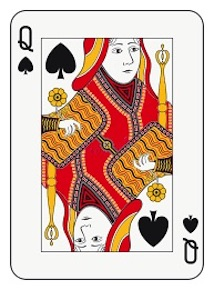QueenOfSpades: (5, 3, 208, 284)
